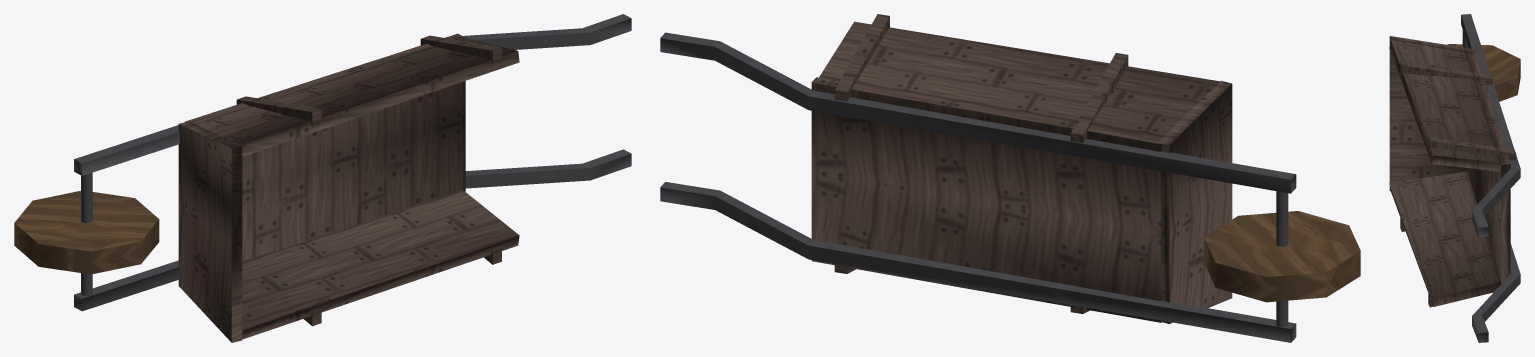
Rendered from Cart01.fbx.
3 renders of one model, left to right at view 1: azimuth 30°, elevation 25°; view 2: azimuth 150°, elevation 25°; view 3: azimuth 270°, elevation 25°, orthographic. The views are drawn at different scales.
Parts seen in each view (by area): view 1: Cart01; view 2: Cart01; view 3: Cart01.
Part boxes in pixels (x1=…): Cart01: x1=14, y1=14, x2=631, y2=342; Cart01: x1=660, y1=14, x2=1360, y2=342; Cart01: x1=1389, y1=14, x2=1520, y2=342.
Size of the model in its own units: 332 by 111 by 79.39.
